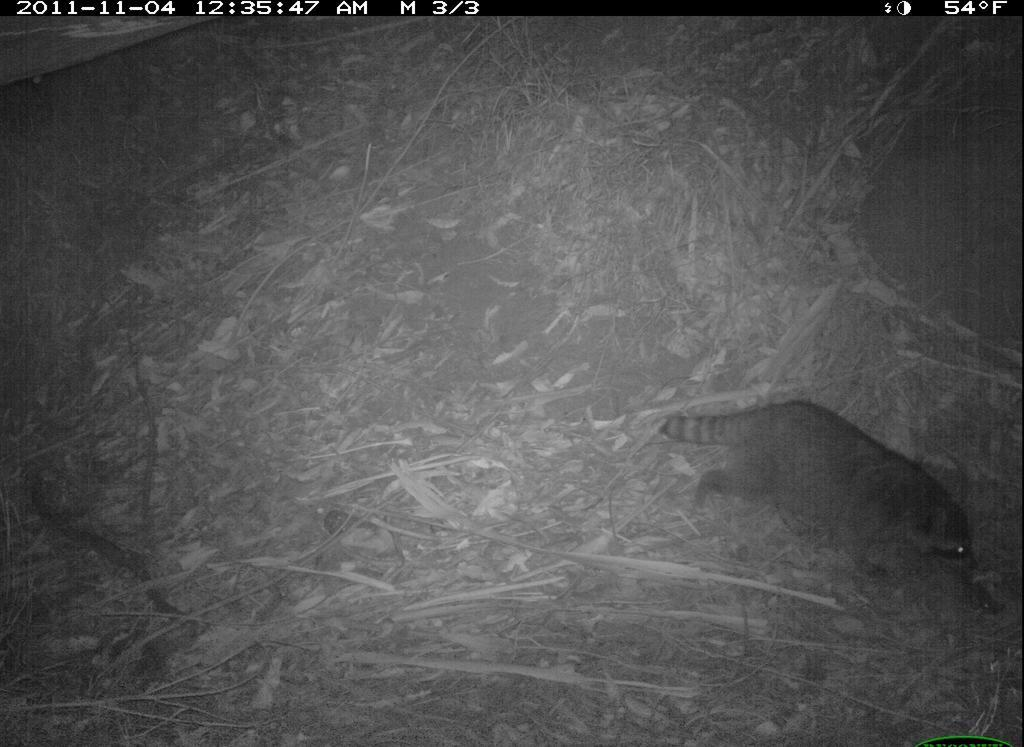raccoon: (657, 386, 994, 602)
